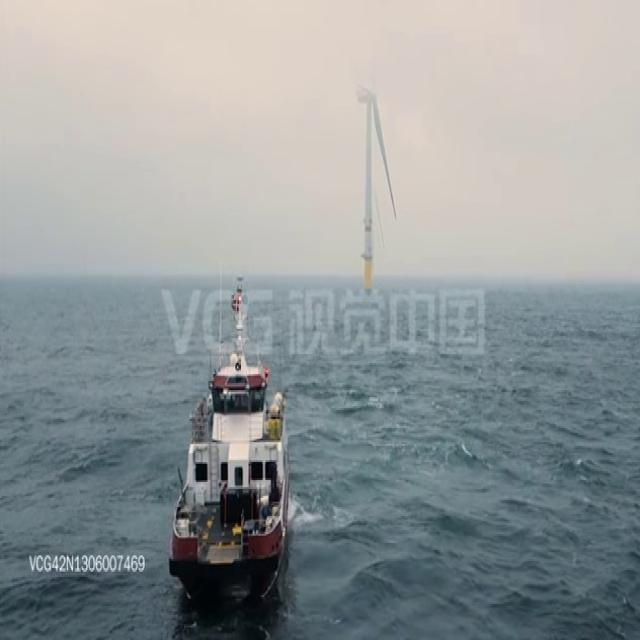houseboat: (172, 272, 292, 596)
